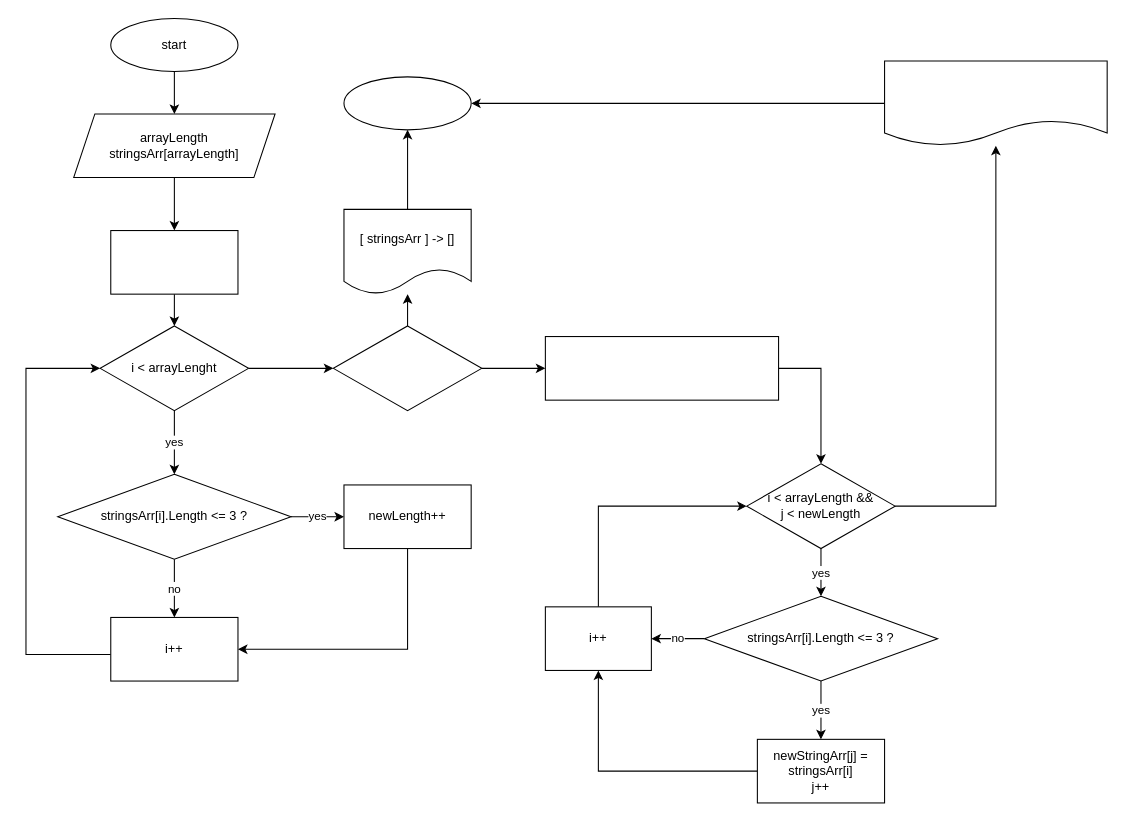
This 1126x821 diagram has some shape labels left out. Each missing label, with the box of its shape:
[ stringsArr ] -> [ newStringsArr ]: (884, 60, 1107, 146)
end: (343, 76, 471, 130)
i = 0 int j =0 newStringsArr[newLength]: (544, 335, 779, 400)
i = 0 newLength = 0: (110, 229, 238, 294)
newLength > 0 ?: (332, 325, 482, 411)
